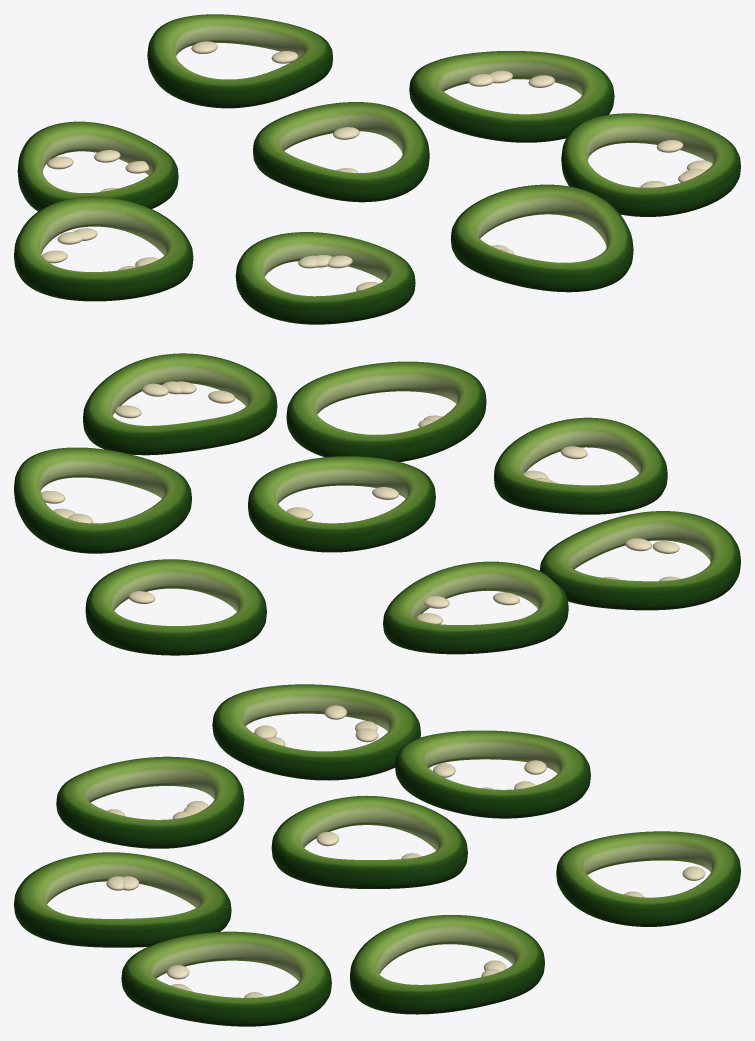
Rendered from jalapeno_rings.glb.
The picture shows the model from 3 angles, top to bottom: view 1: azimuth 30°, elevation 25°; view 2: azimuth 150°, elevation 25°; view 3: azimuth 270°, elevation 25°; orthographic projection.
Visible parts, largest first — view 1: jalapeno_rings_web; view 2: jalapeno_rings_web; view 3: jalapeno_rings_web.
Boxes of the visible parts, x1=… form: jalapeno_rings_web: x1=14, y1=14, x2=740, y2=324; jalapeno_rings_web: x1=14, y1=353, x2=740, y2=655; jalapeno_rings_web: x1=14, y1=684, x2=740, y2=1026.
Bounding box in the file's own units: 0.084 × 0.00615 × 0.0792.
1 material, 1 textured.
